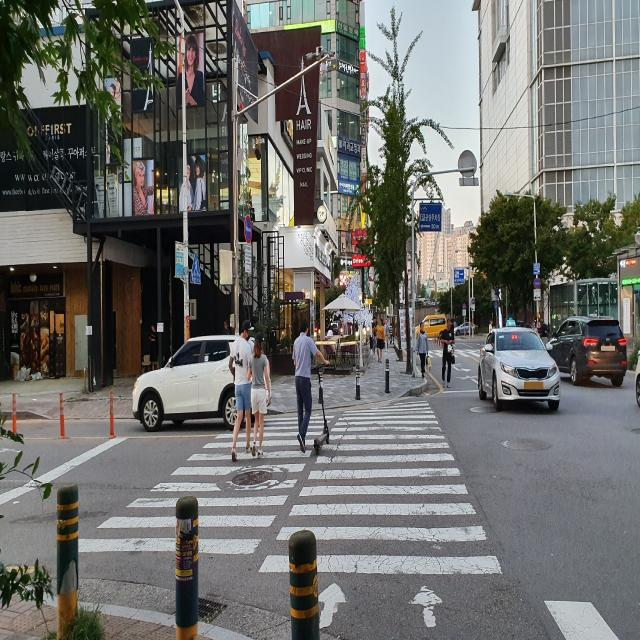횡단보도: (74, 395, 506, 632)
